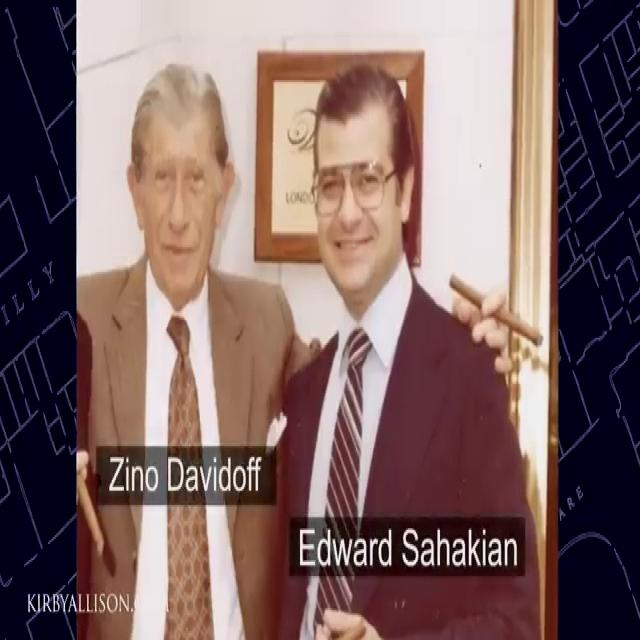Smooking: (445, 268, 543, 356)
